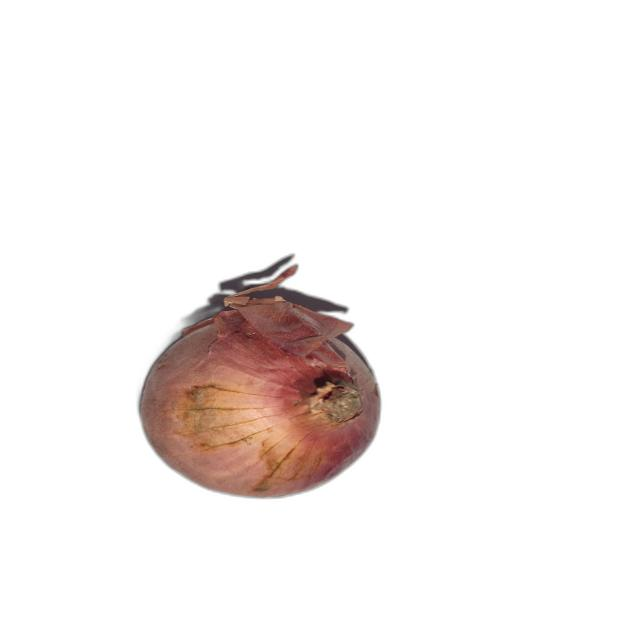onion: (139, 265, 381, 498)
